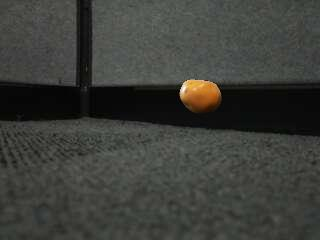Potato: (179, 76, 226, 115)
